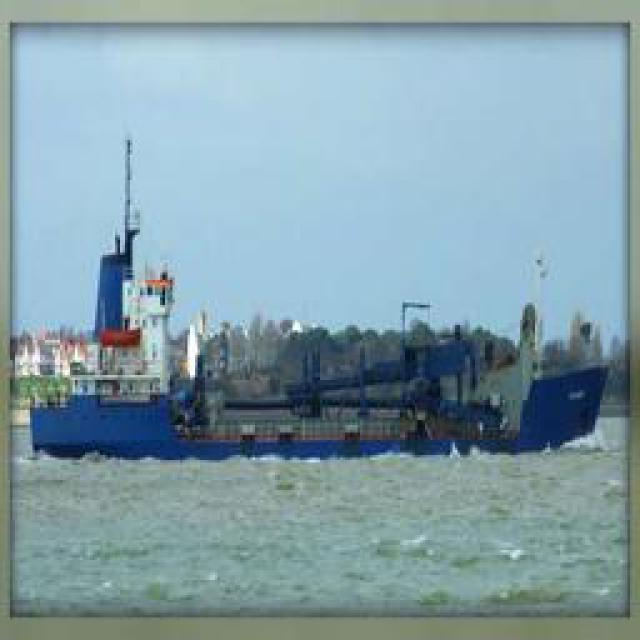Ship: (31, 125, 617, 468)
